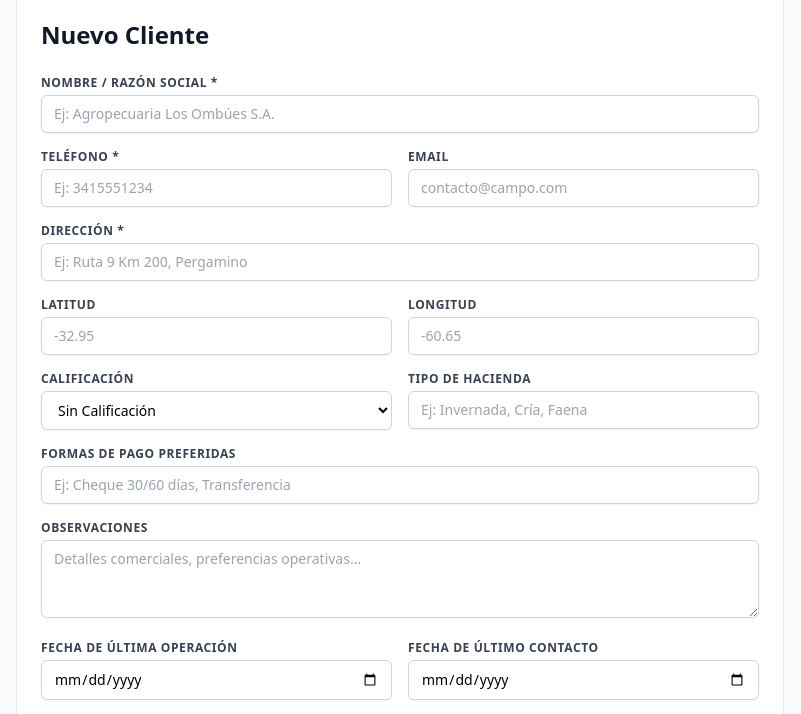
Test: ClienteForm › handles ApiError with field-specific errores and maps them under fields
The image size is (801, 714).
In the field labelled "Nombre / Razón Social *": (400, 114) [41,95,759,133], type "Estancia Sol"
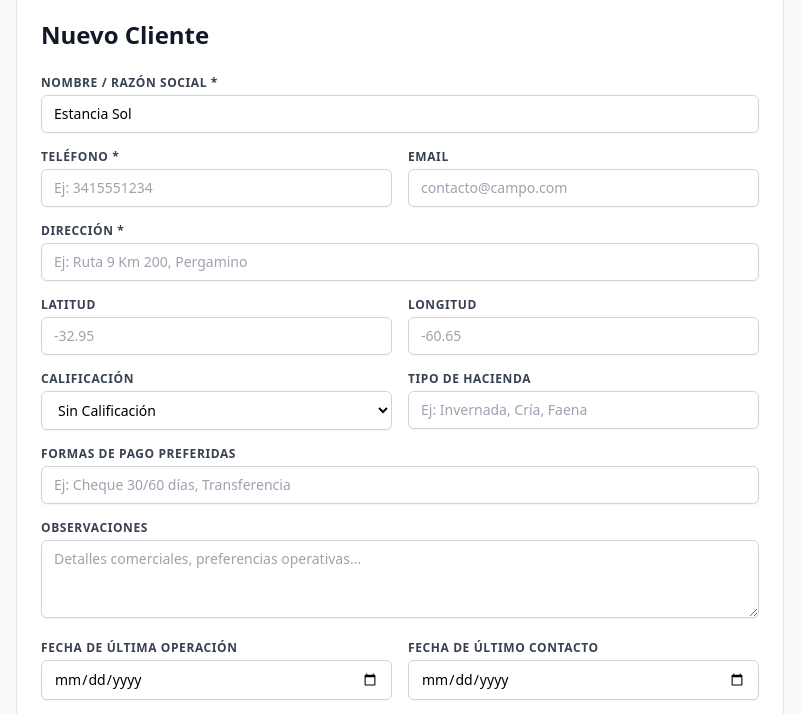
In the field labelled "Teléfono *": (216, 188) [41,169,392,207], type "invalid-tel"
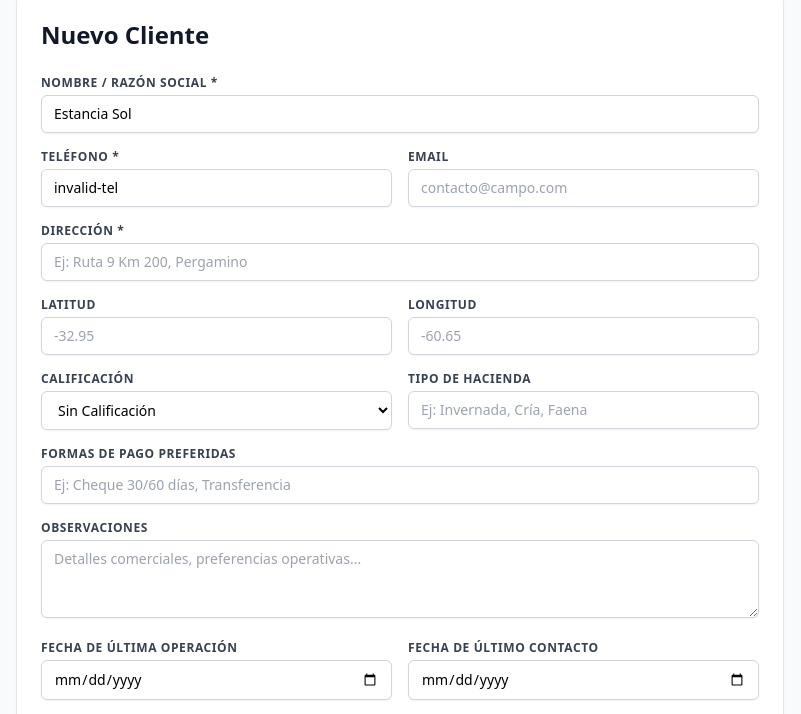
In the field labelled "Dirección *": (400, 262) [41,243,759,281], type "Ruta 9 Km 5"
(page scrolled)
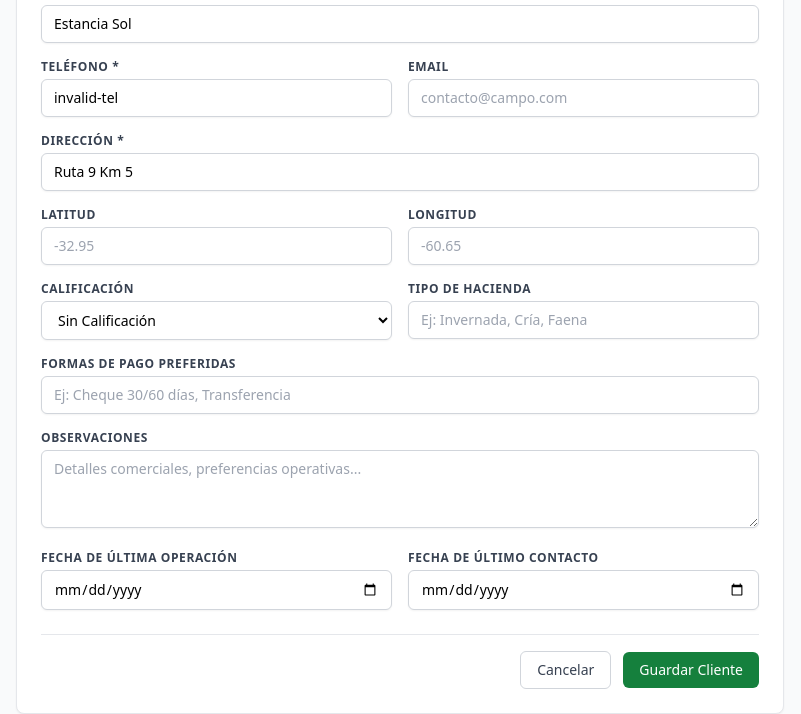
Click the button "Guardar Cliente": (691, 670) [623,652,759,688]
(page scrolled)
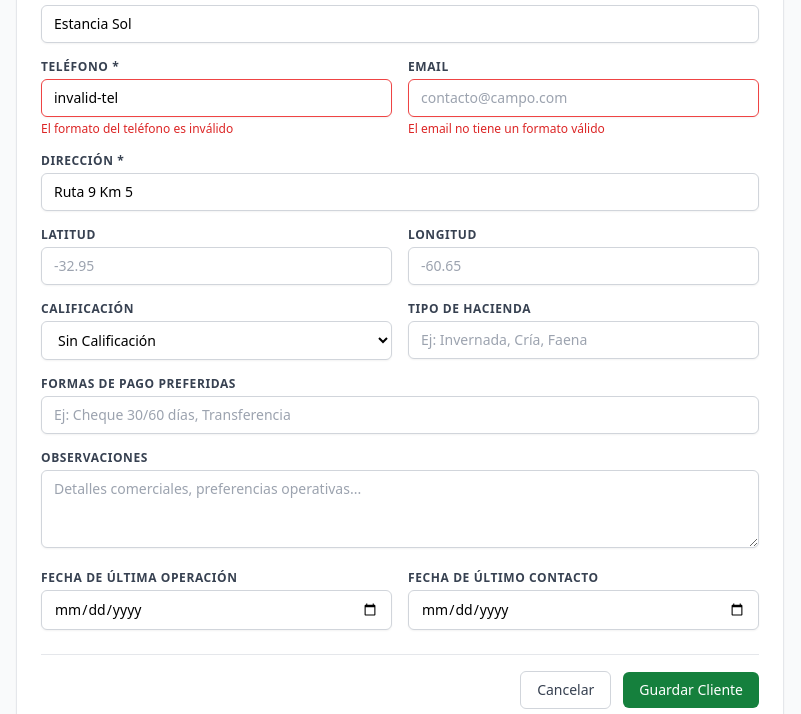
Result: the text "El formato del teléfono es inválido" is shown at [41,120,233,137]
Result: the text "El email no tiene un formato válido" is shown at [408,120,605,137]
